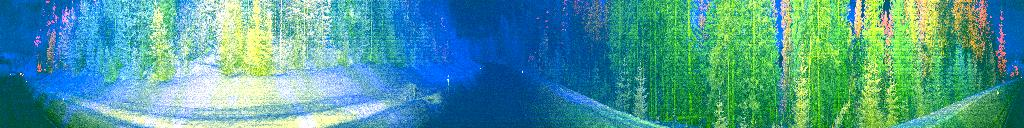pole: (444, 72, 452, 95)
